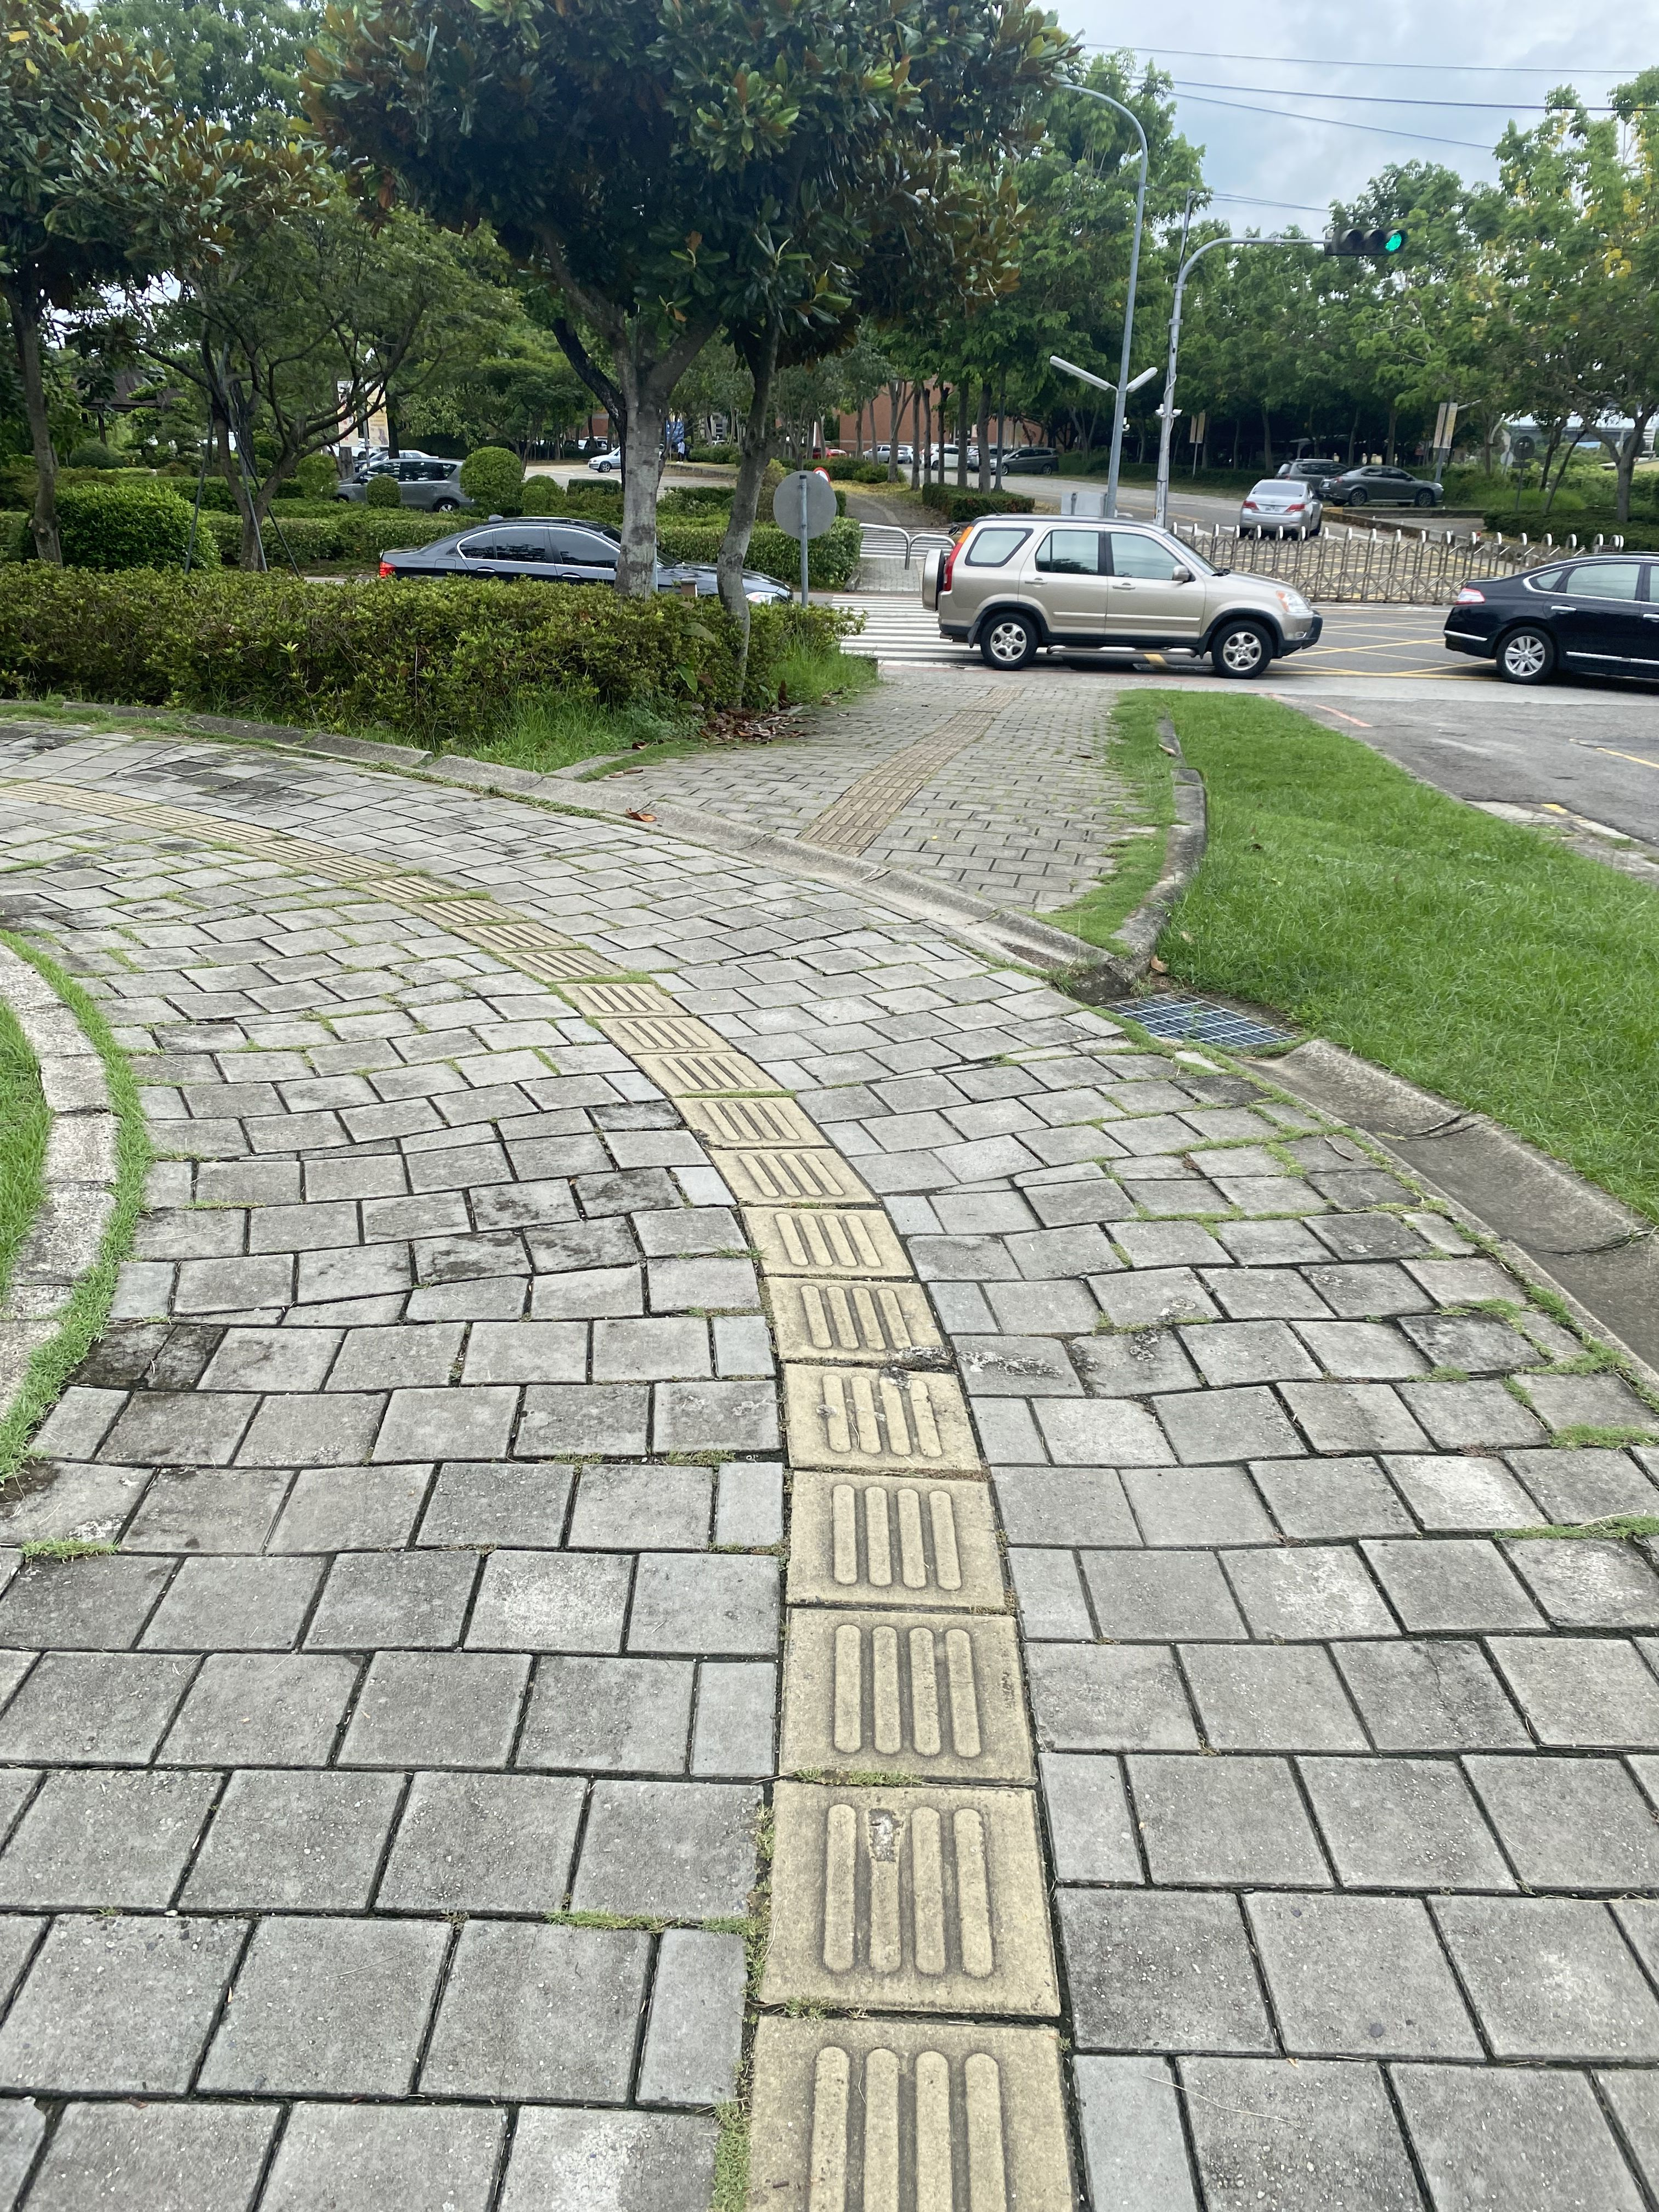sidewalk: (12, 681, 1659, 2212)
